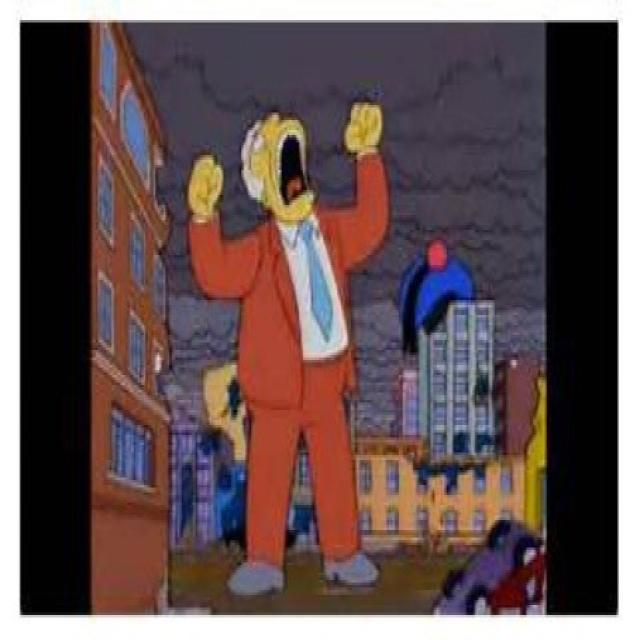Kent Brockman: (240, 102, 324, 232)
